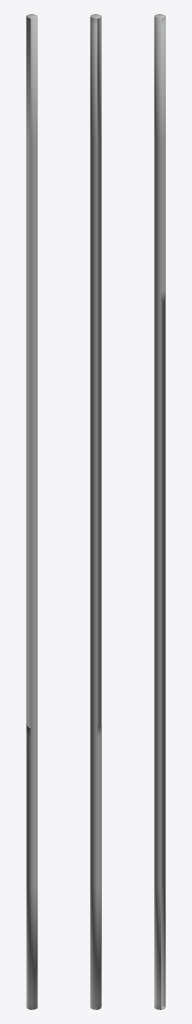
The model's file is defaultguyrope.glb.
3 renders of one model, left to right at view 1: azimuth 30°, elevation 25°; view 2: azimuth 150°, elevation 25°; view 3: azimuth 330°, elevation 25°, orthographic.
Parts seen in each view (by area): view 1: DefaultGuyRope; view 2: DefaultGuyRope; view 3: DefaultGuyRope.
Boxes of the visible parts, <box> form: DefaultGuyRope: <box>26,14,37,1009</box>; DefaultGuyRope: <box>90,14,101,1009</box>; DefaultGuyRope: <box>154,14,165,1009</box>.
Bounding box in the file's own units: 0.0148 × 1.5 × 0.0148.
Materials: 1 (1 with a texture image).
